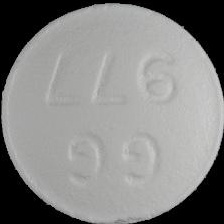50090-0647: (0, 0, 224, 224)
